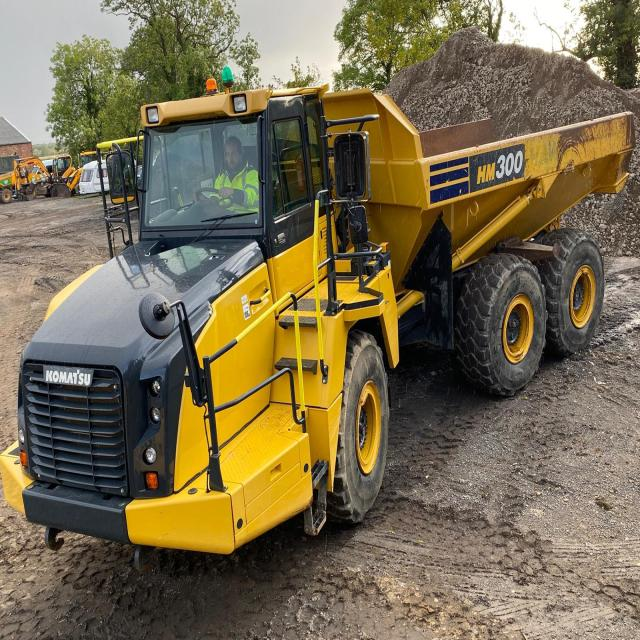dump_truck: (16, 24, 640, 550)
